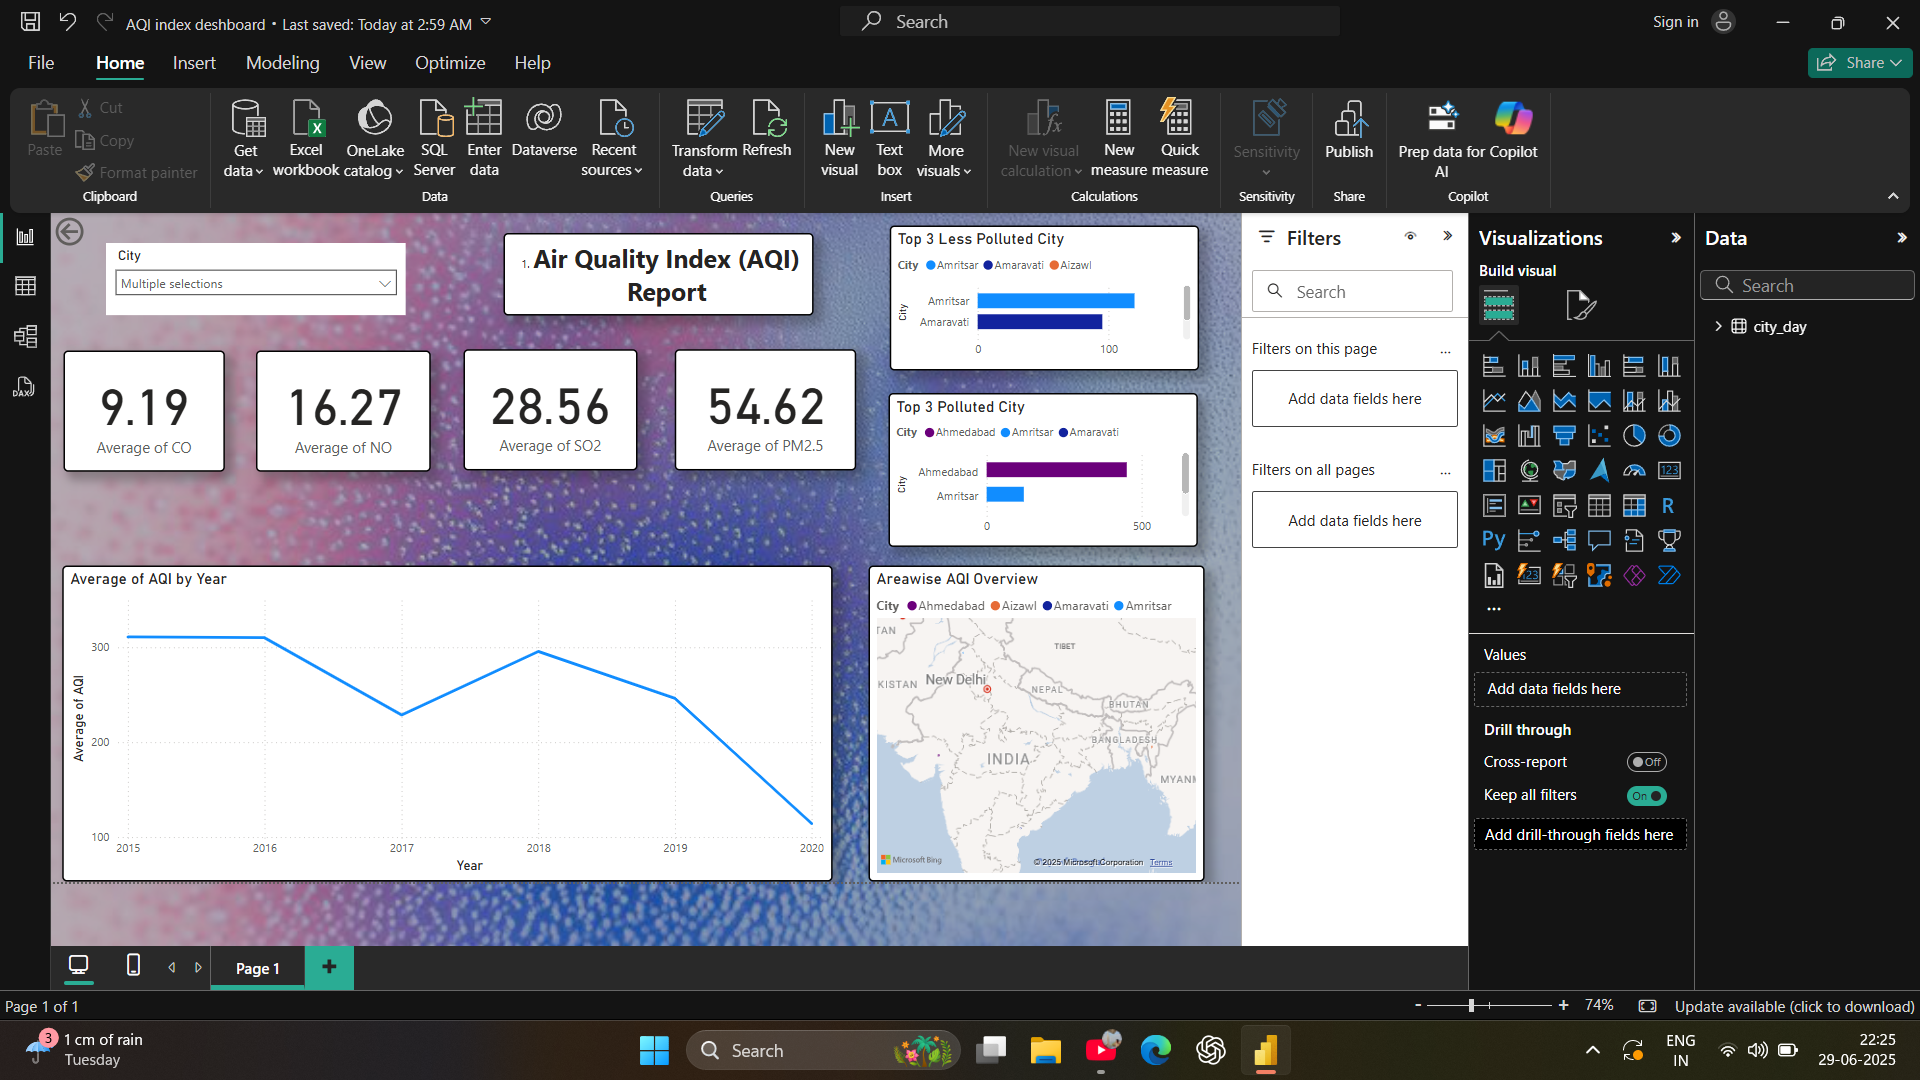

Layout of this report page (visuals, bound fields, positions):
{"tool":"powerbi","page":{"name":"Page 1","canvas":[1280,720],"ordinal":0},"visuals":[{"type":"lineChart","fields":{"Category":["city_day.Date.Variation.Date Hierarchy.Year","city_day.Date.Variation.Date Hierarchy.Quarter","city_day.Date.Variation.Date Hierarchy.Month","city_day.Date.Variation.Date Hierarchy.Day"],"Y":["Avg(city_day.AQI)"]},"box":[12.1,379.2,828.4,340.2],"z":0},{"type":"slicer","fields":{"Values":["city_day.City"]},"box":[59.2,32.3,322.8,78],"z":1000},{"type":"barChart","title":"Top 3 Polluted City","fields":{"Category":["city_day.City"],"Y":["Avg(city_day.AQI)"],"Series":["city_day.City"]},"box":[901.4,194.3,332.9,165.7],"z":2000},{"type":"barChart","title":"Top 3 Less Polluted City","fields":{"Category":["city_day.City"],"Y":["Avg(city_day.AQI)"],"Series":["city_day.City"]},"box":[902.9,12.9,332.9,155.7],"z":3000},{"type":"card","fields":{"Values":["Avg(city_day.CO)"]},"box":[13.4,147.9,173.5,130.4],"z":4000},{"type":"card","fields":{"Values":["Avg(city_day.NO)"]},"box":[220.6,147.9,188.3,130.4],"z":5000},{"type":"card","fields":{"Values":["Avg(city_day.SO2)"]},"box":[443.8,146.6,186.9,130.4],"z":6000},{"type":"card","fields":{"Values":["Avg(city_day.PM2.5)"]},"box":[671.1,146.6,195,130.4],"z":7000},{"type":"filledMap","title":"Areawise AQI Overview","fields":{"Category":["city_day.City"],"Series":["city_day.City"]},"box":[879.5,379.2,361.8,340.2],"z":8000},{"type":"actionButton","box":[0,0,100,40],"z":9000},{"type":"textbox","box":[486.8,21.5,333.5,88.8],"z":10000}]}

Visuals, with their boxes on the page's 1280x720 design canvas (x1, y1, x2, y2). These are canvas units, not pixel positions in the 1920x1080 screenshot, which may show the page scaled, cropped or inside an application window:
lineChart - city_day.Date.Variation.Date Hierarchy.Year x city_day.Date.Variation.Date Hierarchy.Quarter: bbox(12, 379, 840, 719)
slicer - city_day.City: bbox(59, 32, 382, 110)
"Top 3 Polluted City" barChart: bbox(901, 194, 1234, 360)
"Top 3 Less Polluted City" barChart: bbox(903, 13, 1236, 169)
card - Avg(city_day.CO): bbox(13, 148, 187, 278)
card - Avg(city_day.NO): bbox(221, 148, 409, 278)
card - Avg(city_day.SO2): bbox(444, 147, 631, 277)
card - Avg(city_day.PM2.5): bbox(671, 147, 866, 277)
"Areawise AQI Overview" filledMap: bbox(880, 379, 1241, 719)
actionButton: bbox(0, 0, 100, 40)
textbox: bbox(487, 22, 820, 110)
